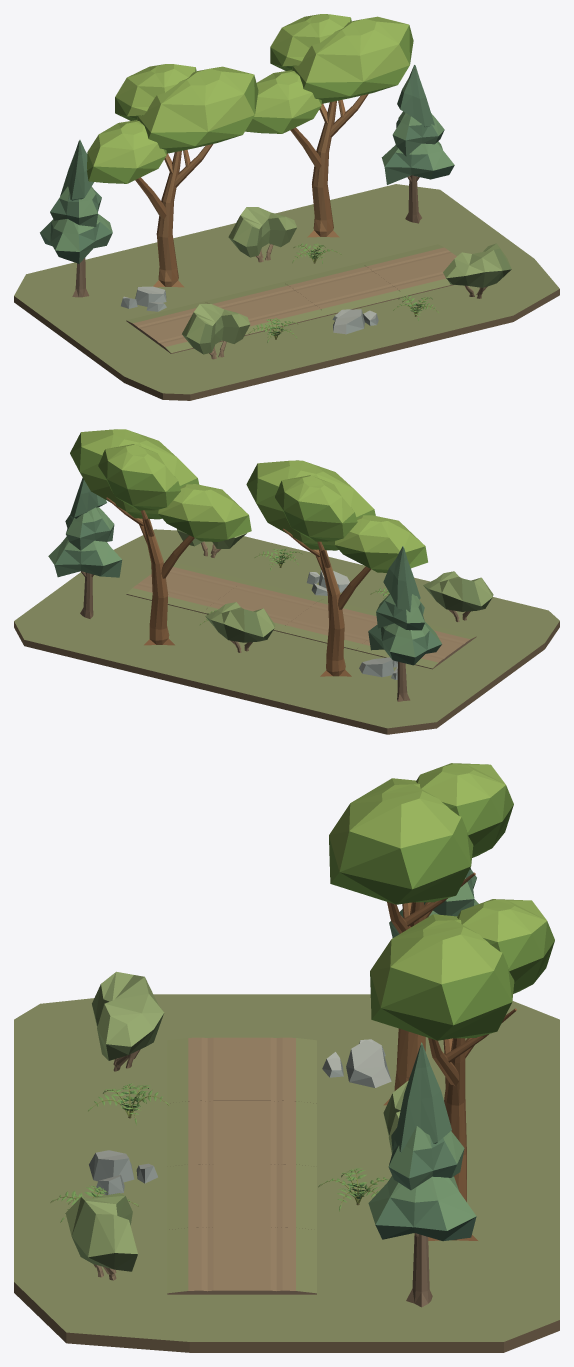
The picture shows the model from 3 angles, top to bottom: view 1: azimuth 30°, elevation 25°; view 2: azimuth 150°, elevation 25°; view 3: azimuth 270°, elevation 25°; orthographic projection. The views are drawn at different scales.
Visible parts, largest first — view 1: SCENE_ONLY__ForestFloorSupport, nature-umbrella-broadleaf-01__00__Canopy primary.001, nature-umbrella-broadleaf-01__01__Canopy primary.001, nature-umbrella-broadleaf-01__00__Canopy primary, village-soil-road-straight-2m-01__02__Continuous earth surfa, nature-umbrella-broadleaf-01__01__Canopy primary, village-soil-road-straight-2m-01__01__Continuous earth surfa, village-soil-road-straight-2m-01__03__Continuous earth surfa, nature-umbrella-broadleaf-01__01__Canopy primary.002, nature-umbrella-broadleaf-01__00__Canopy primary.002, nature-multistem-shrub-01__02__Canopy primary, nature-multistem-shrub-01__00__Canopy primary (+13 smaller); view 2: SCENE_ONLY__ForestFloorSupport, nature-umbrella-broadleaf-01__00__Canopy primary.002, nature-umbrella-broadleaf-01__01__Canopy primary.002, nature-umbrella-broadleaf-01__00__Canopy primary.001, nature-umbrella-broadleaf-01__01__Canopy primary.001, nature-umbrella-broadleaf-01__01__Canopy primary, nature-umbrella-broadleaf-01__00__Canopy primary, village-soil-road-straight-2m-01__03__Continuous earth surfa, village-soil-road-straight-2m-01__02__Continuous earth surfa, village-soil-road-straight-2m-01__01__Continuous earth surfa, nature-young-conifer-01__00__Canopy primary, nature-young-conifer-01__01__Canopy primary (+14 smaller); view 3: SCENE_ONLY__ForestFloorSupport, nature-umbrella-broadleaf-01__00__Canopy primary.001, nature-umbrella-broadleaf-01__01__Canopy primary.001, village-soil-road-straight-2m-01__03__Continuous earth surfa, village-soil-road-straight-2m-01__02__Continuous earth surfa, village-soil-road-straight-2m-01__00__Continuous earth surfa, village-soil-road-straight-2m-01__01__Continuous earth surfa, nature-young-conifer-01__01__Canopy primary, nature-umbrella-broadleaf-01__01__Canopy primary.002, nature-umbrella-broadleaf-01__00__Canopy primary.002, nature-multistem-shrub-01__00__Canopy primary, nature-multistem-shrub-01__01__Canopy primary (+8 smaller).
Boxes of the visible parts, x1,y1,x2,y2 form: SCENE_ONLY__ForestFloorSupport: (14, 184, 559, 400); nature-umbrella-broadleaf-01__00__Canopy primary.001: (137, 66, 258, 153); nature-umbrella-broadleaf-01__01__Canopy primary.001: (292, 16, 413, 103); nature-umbrella-broadleaf-01__00__Canopy primary: (87, 120, 166, 183); village-soil-road-straight-2m-01__02__Continuous earth surfa: (282, 263, 404, 315); nature-umbrella-broadleaf-01__01__Canopy primary: (245, 70, 321, 133); village-soil-road-straight-2m-01__01__Continuous earth surfa: (204, 282, 326, 334); village-soil-road-straight-2m-01__03__Continuous earth surfa: (360, 244, 456, 296); nature-umbrella-broadleaf-01__01__Canopy primary.002: (270, 14, 351, 70); nature-umbrella-broadleaf-01__00__Canopy primary.002: (115, 64, 196, 120); nature-multistem-shrub-01__02__Canopy primary: (228, 207, 296, 257); nature-multistem-shrub-01__00__Canopy primary: (182, 304, 250, 354); SCENE_ONLY__ForestFloorSupport: (14, 529, 559, 734); nature-umbrella-broadleaf-01__00__Canopy primary.002: (275, 475, 357, 541); nature-umbrella-broadleaf-01__01__Canopy primary.002: (98, 444, 180, 510); nature-umbrella-broadleaf-01__00__Canopy primary.001: (246, 460, 375, 550); nature-umbrella-broadleaf-01__01__Canopy primary.001: (70, 429, 199, 519); nature-umbrella-broadleaf-01__01__Canopy primary: (158, 484, 251, 541); nature-umbrella-broadleaf-01__00__Canopy primary: (334, 515, 427, 572); village-soil-road-straight-2m-01__03__Continuous earth surfa: (126, 563, 246, 613); village-soil-road-straight-2m-01__02__Continuous earth surfa: (203, 580, 322, 631); village-soil-road-straight-2m-01__01__Continuous earth surfa: (279, 599, 377, 650); nature-young-conifer-01__00__Canopy primary: (368, 622, 441, 665); nature-young-conifer-01__01__Canopy primary: (48, 536, 122, 577); SCENE_ONLY__ForestFloorSupport: (14, 994, 559, 1352); nature-umbrella-broadleaf-01__00__Canopy primary.001: (329, 778, 473, 904); nature-umbrella-broadleaf-01__01__Canopy primary.001: (370, 914, 514, 1040); village-soil-road-straight-2m-01__03__Continuous earth surfa: (167, 1227, 316, 1294); village-soil-road-straight-2m-01__02__Continuous earth surfa: (167, 1164, 316, 1229); village-soil-road-straight-2m-01__00__Continuous earth surfa: (167, 1037, 316, 1103); village-soil-road-straight-2m-01__01__Continuous earth surfa: (167, 1101, 316, 1166); nature-young-conifer-01__01__Canopy primary: (368, 1176, 476, 1241); nature-umbrella-broadleaf-01__01__Canopy primary.002: (457, 899, 554, 993); nature-umbrella-broadleaf-01__00__Canopy primary.002: (416, 763, 513, 857); nature-multistem-shrub-01__00__Canopy primary: (92, 971, 164, 1060); nature-multistem-shrub-01__01__Canopy primary: (65, 1193, 137, 1271).
Bounding box in the file's own units: 11 × 5.17 × 7.3.
